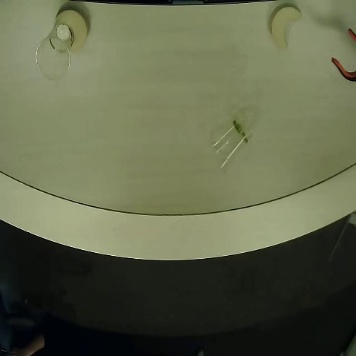empty_cup: (208, 113, 259, 174), (28, 21, 79, 82)
puck: (52, 7, 92, 54), (265, 2, 305, 49)
